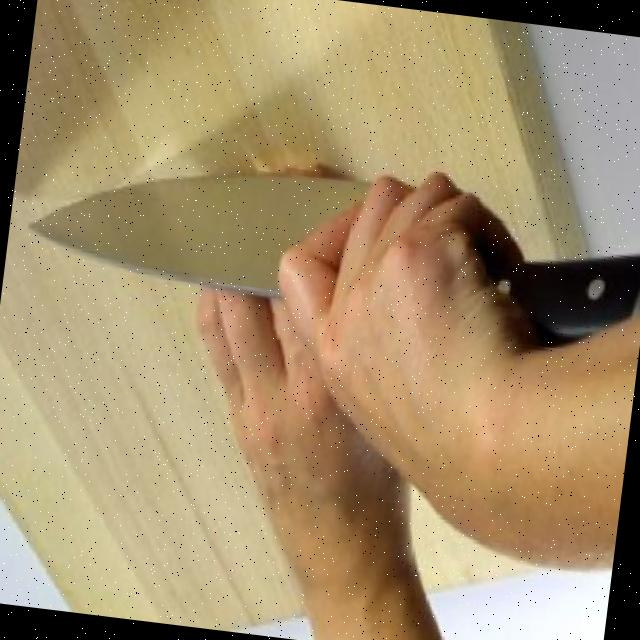Knife: (16, 114, 640, 388)
